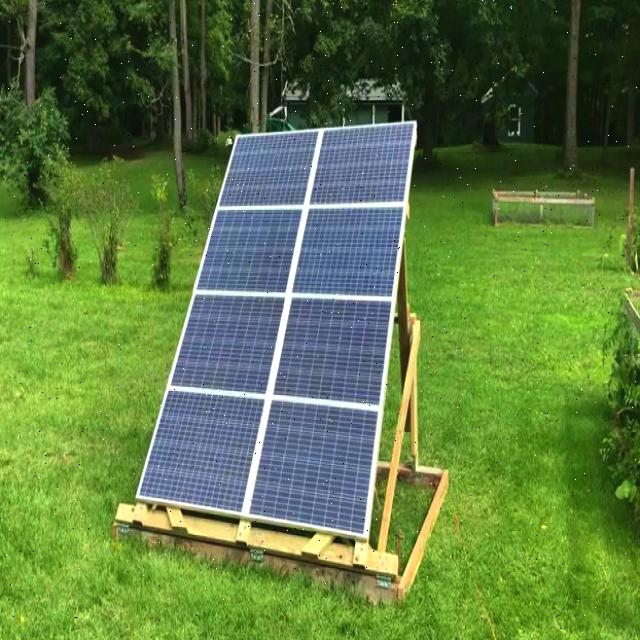Normal Solar Panel: (137, 124, 416, 538)
